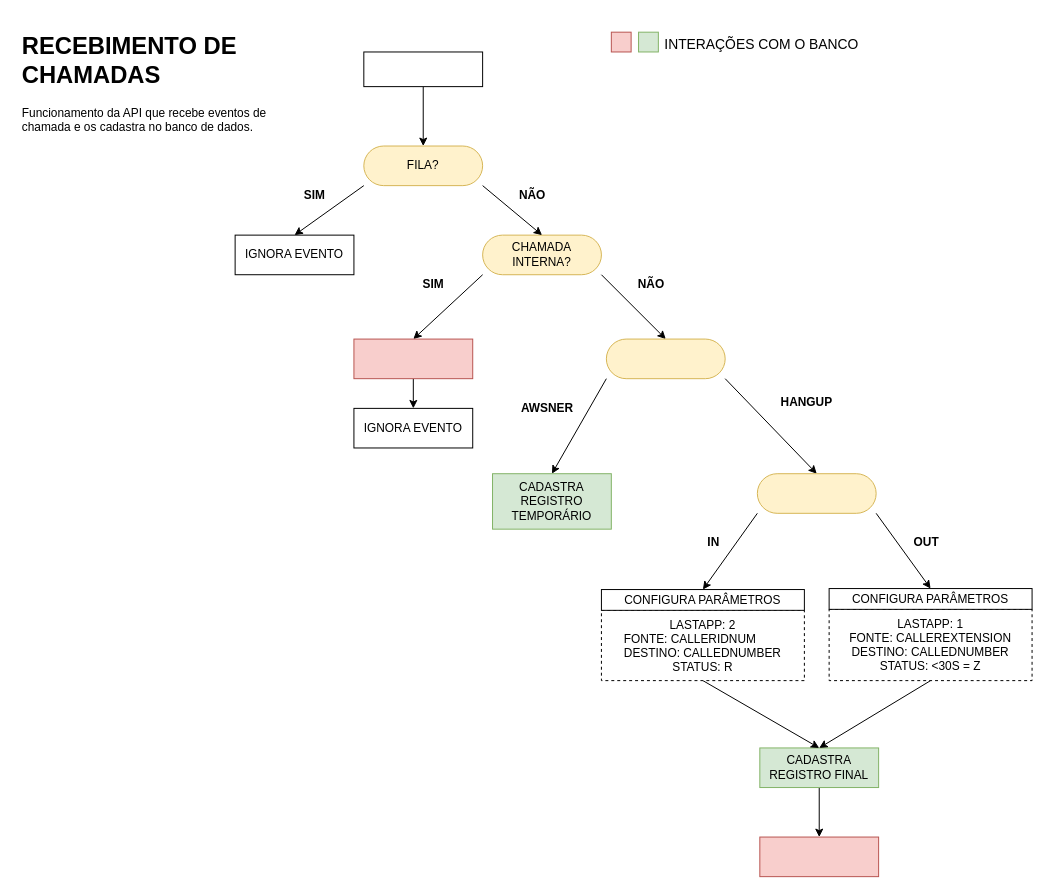
Image size: 1049x894. Some labels were removed from this diagram. Each missing label, with the centre of its shape:
"APAGA REGISTRO TEMPORÁRIO" goes at (x=819, y=856).
"APAGA REGISTROS COM MESMO ID" goes at (x=413, y=358).
"EVENTO RECEBIDO" goes at (x=423, y=69).
"FLOW" goes at (x=816, y=493).
"STATUS" goes at (x=665, y=358).
